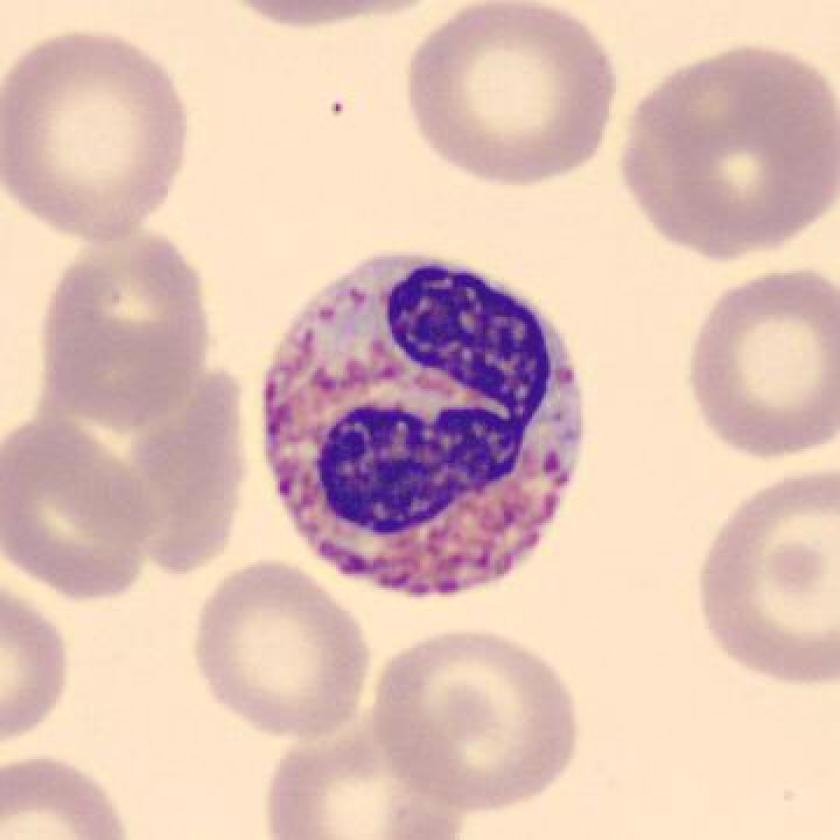eosinophil: (251, 242, 591, 614)
